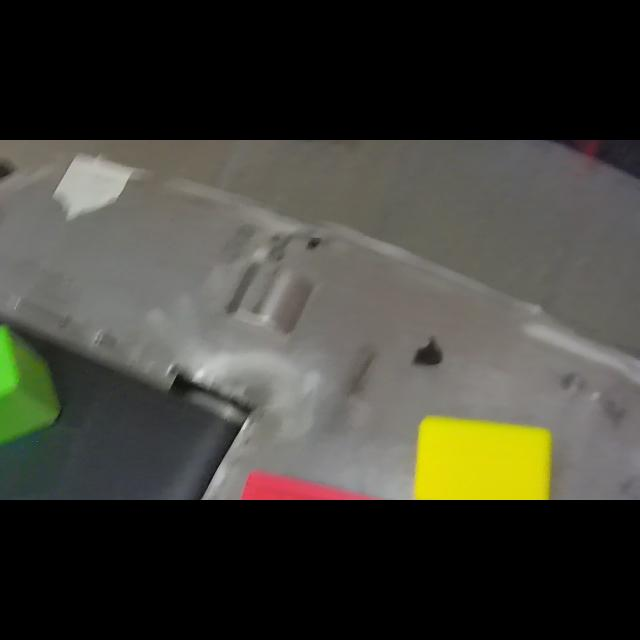greenBox: (0, 318, 66, 482)
redBox: (214, 462, 418, 500)
yellowBox: (411, 406, 564, 500)
